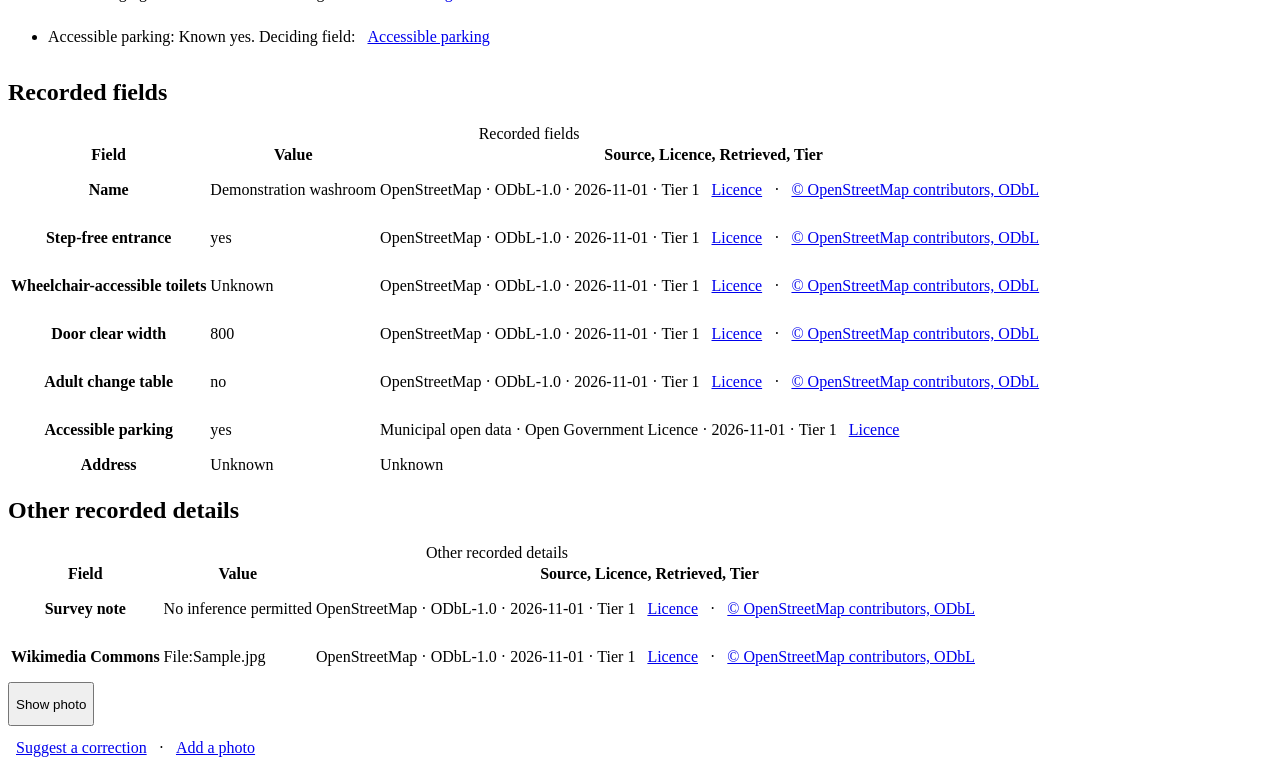
Test: web pack place › does not accept arbitrary image hosts or fetch on mount
(page scrolled)
Click the button "Show photo".
click(51, 704)  # box x1=8 y1=682 x2=94 y2=726
(page scrolled)
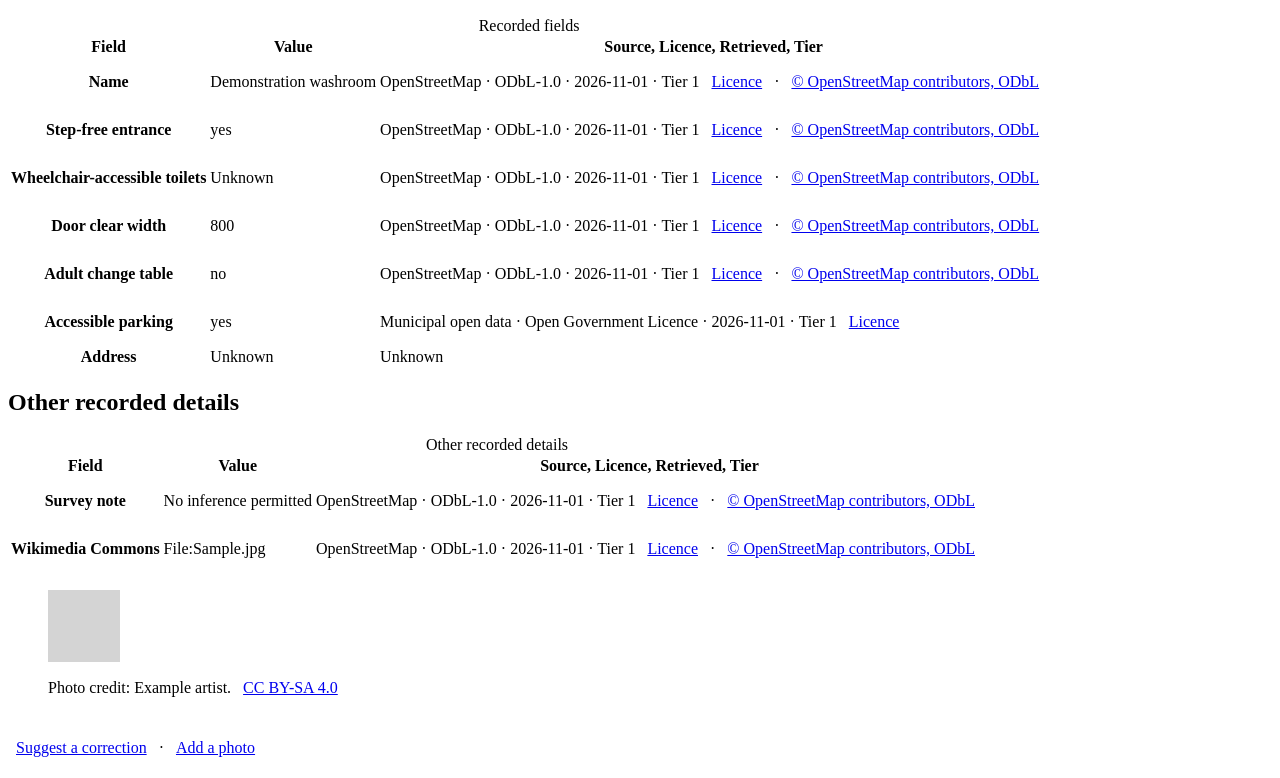
expect the text "Photo credit: Example artist. CC BY-SA 4.0" is shown: met, box x1=48 y1=679 x2=338 y2=696
expect the link "CC BY-SA 4.0" is shown: met, box x1=243 y1=679 x2=338 y2=696
